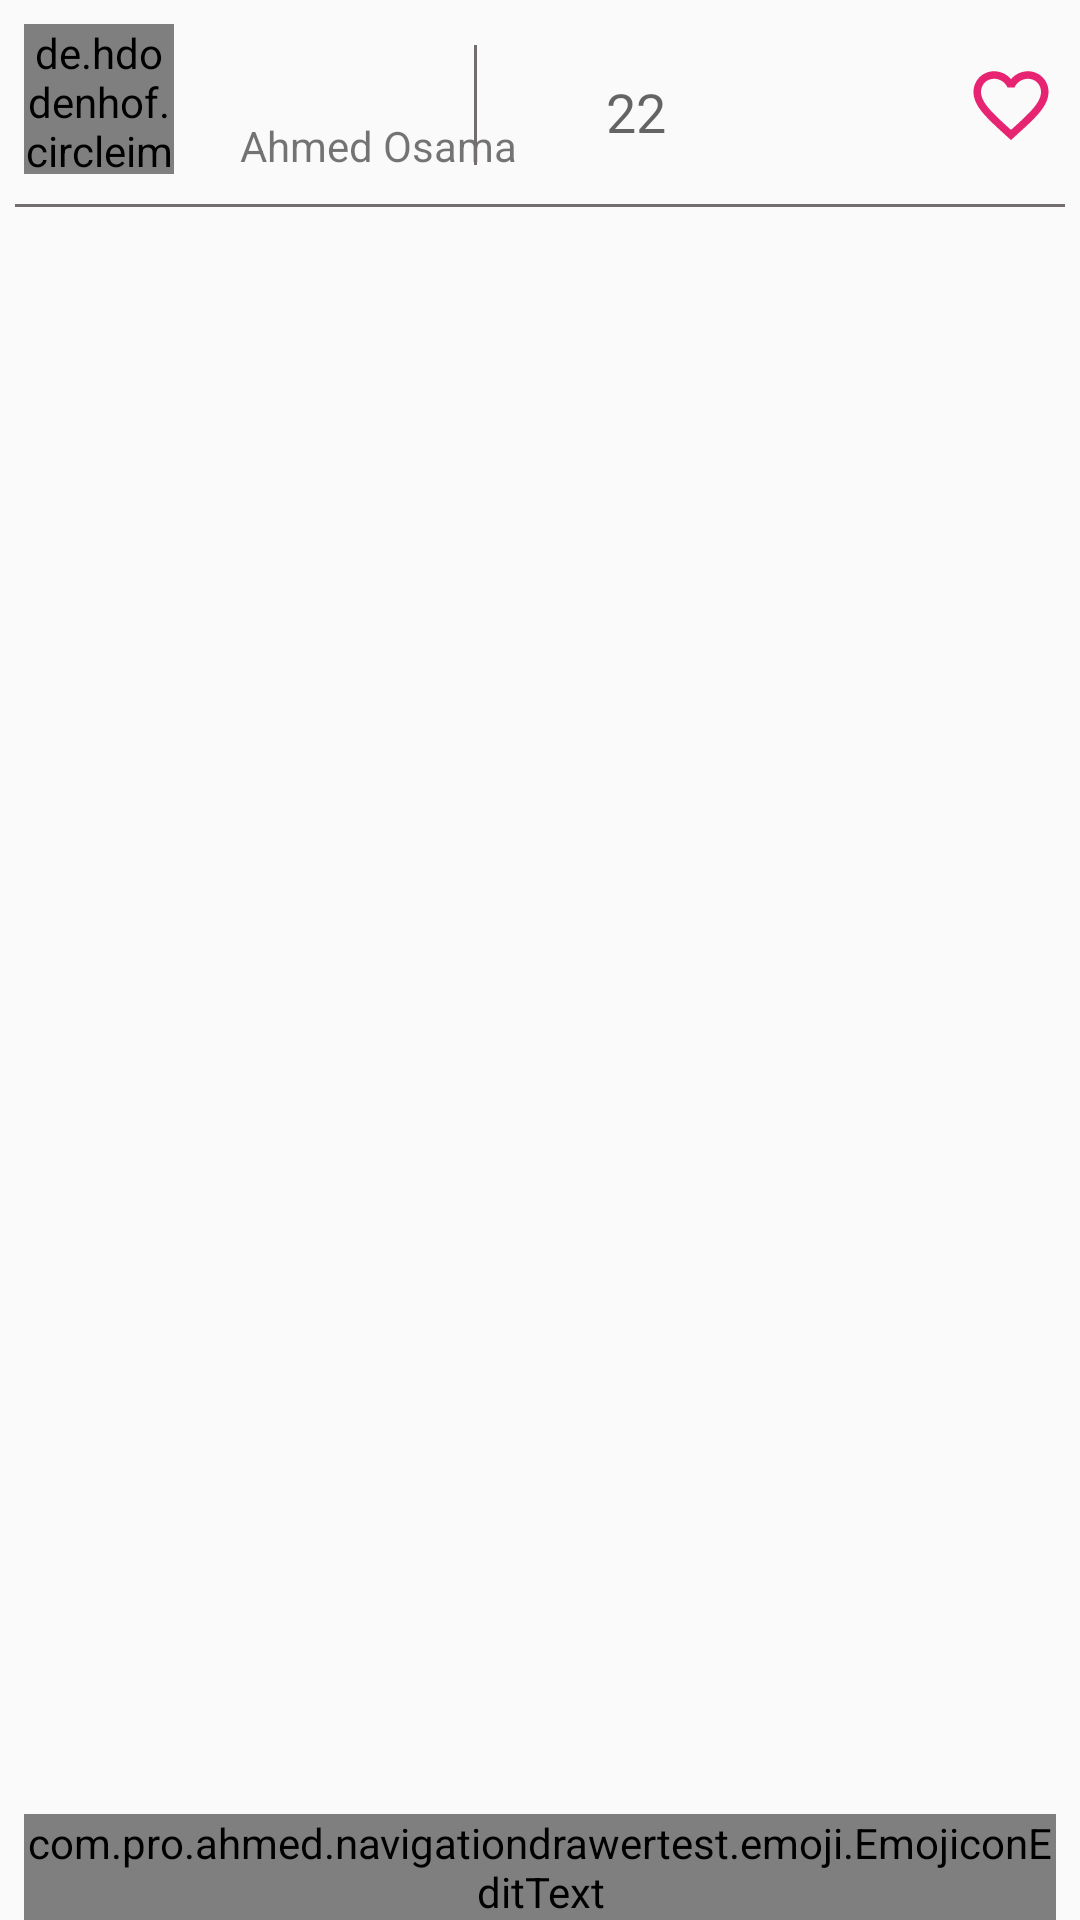

Named icons in this screenshot (1080px×1920px) and their centers, (x,y):
favorite border: (1011,105)
